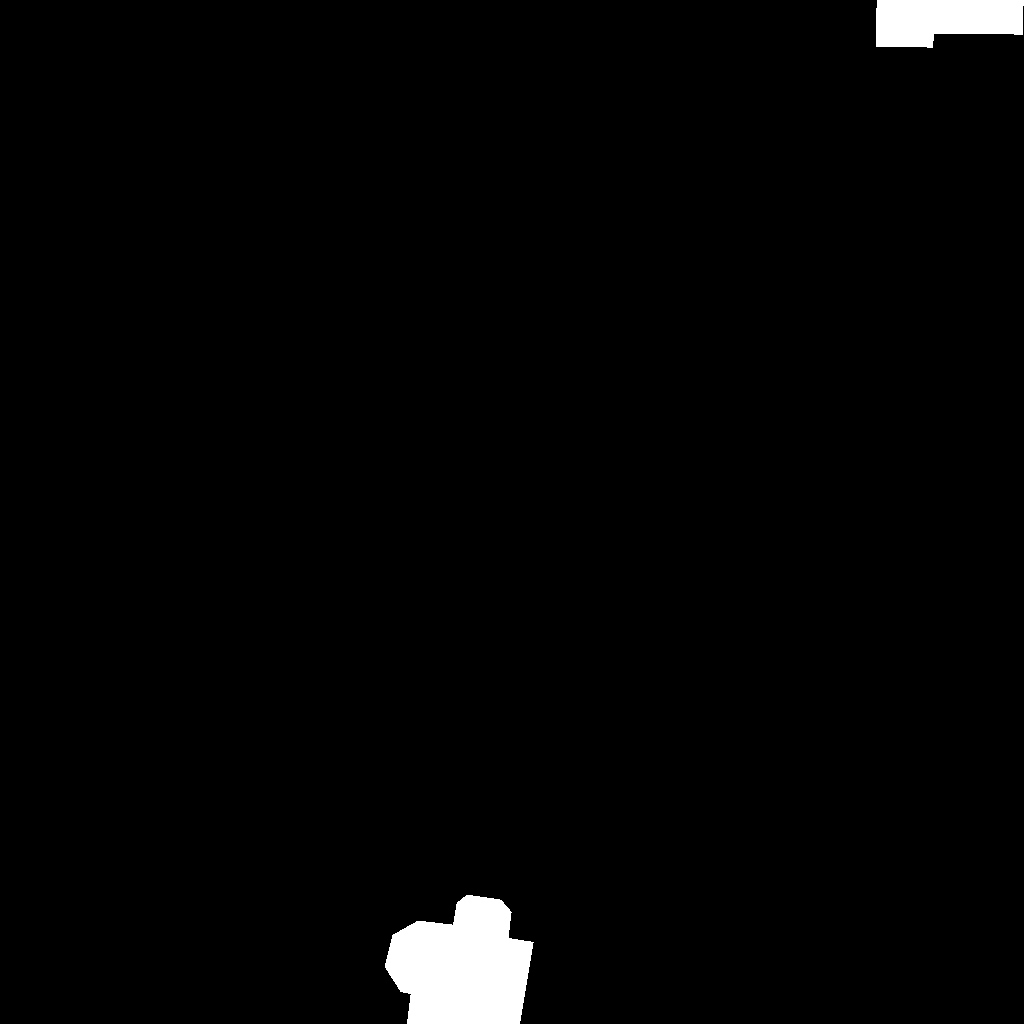building: (385, 895, 534, 1024), (876, 0, 1024, 48)
